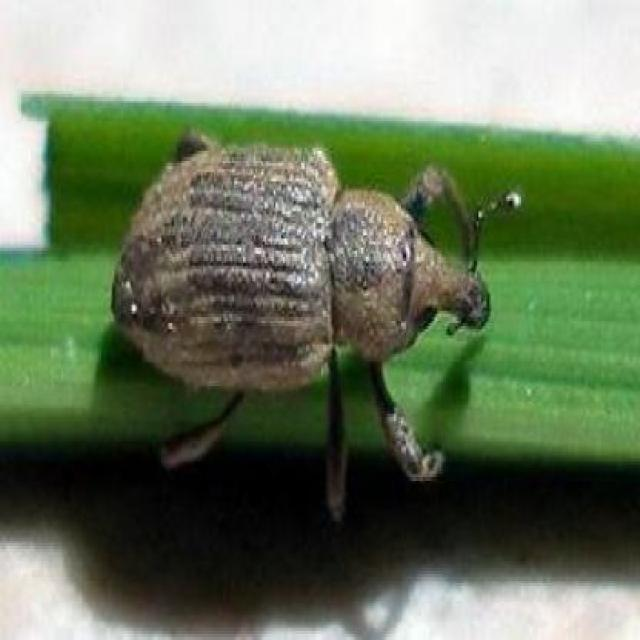rice-bug: (113, 126, 490, 483)
